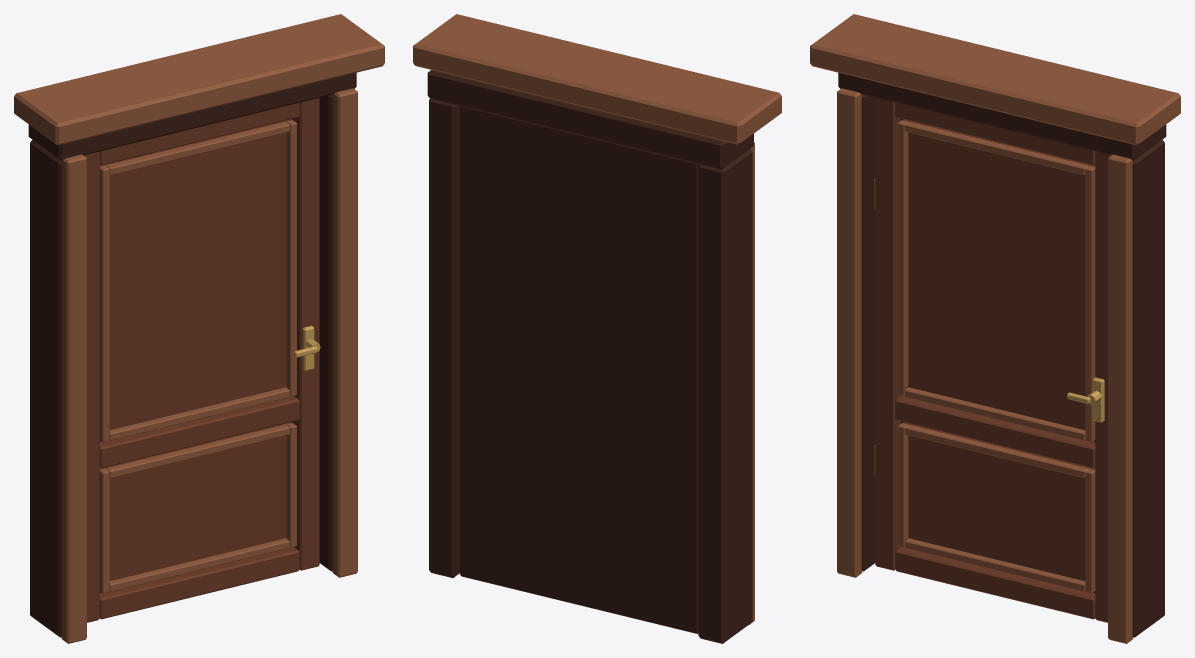
File: lattice_door.glb
3 renders of one model, left to right at view 1: azimuth 30°, elevation 25°; view 2: azimuth 150°, elevation 25°; view 3: azimuth 330°, elevation 25°, orthographic.
Visible parts, largest first — view 1: Panel_0_1_Field, Cornice, Panel_0_0_Field, Jamb__1, Jamb_moulding__1, Jamb_moulding_1, Leaf_stile_0_1, Jamb_1, Leaf_stile_0__1, Lintel, Leaf_crossrail_0_0_048, Leaf_crossrail_0_0_727 (+9 smaller); view 2: Leaf_0, Jamb__1, Cornice, Jamb_1, Lintel, Jamb_moulding__1; view 3: Panel_0_1_Field, Cornice, Panel_0_0_Field, Jamb_1, Jamb_moulding_1, Jamb_moulding__1, Leaf_stile_0__1, Jamb__1, Leaf_stile_0_1, Lintel, Leaf_crossrail_0_0_048, Leaf_crossrail_0_0_727 (+9 smaller).
Boxes of the visible parts, x1,y1,x2,y2 form: Panel_0_1_Field: (99, 119, 291, 429); Cornice: (14, 14, 384, 145); Panel_0_0_Field: (99, 422, 291, 580); Jamb__1: (30, 140, 62, 637); Jamb_moulding__1: (61, 154, 86, 643); Jamb_moulding_1: (332, 88, 357, 577); Leaf_stile_0_1: (294, 98, 319, 570); Jamb_1: (319, 94, 333, 571); Leaf_stile_0__1: (84, 151, 99, 622); Lintel: (28, 72, 356, 160); Leaf_crossrail_0_0_048: (99, 547, 299, 619); Leaf_crossrail_0_0_727: (99, 396, 299, 468); Leaf_0: (460, 106, 699, 633); Jamb__1: (698, 149, 752, 643); Cornice: (413, 14, 781, 144); Jamb_1: (429, 99, 459, 577); Lintel: (427, 70, 753, 169); Jamb_moulding__1: (748, 142, 754, 625); Panel_0_1_Field: (903, 119, 1095, 429); Cornice: (810, 14, 1180, 145); Panel_0_0_Field: (903, 422, 1095, 580); Jamb_1: (1132, 140, 1164, 637); Jamb_moulding_1: (1108, 154, 1133, 643); Jamb_moulding__1: (837, 88, 862, 577); Leaf_stile_0__1: (875, 98, 900, 570); Jamb__1: (861, 94, 875, 571); Leaf_stile_0_1: (1095, 151, 1110, 622); Lintel: (838, 72, 1166, 160); Leaf_crossrail_0_0_048: (895, 547, 1095, 619); Leaf_crossrail_0_0_727: (895, 396, 1095, 468).
Bounding box in the file's own units: 1.55 × 2.39 × 0.37.
